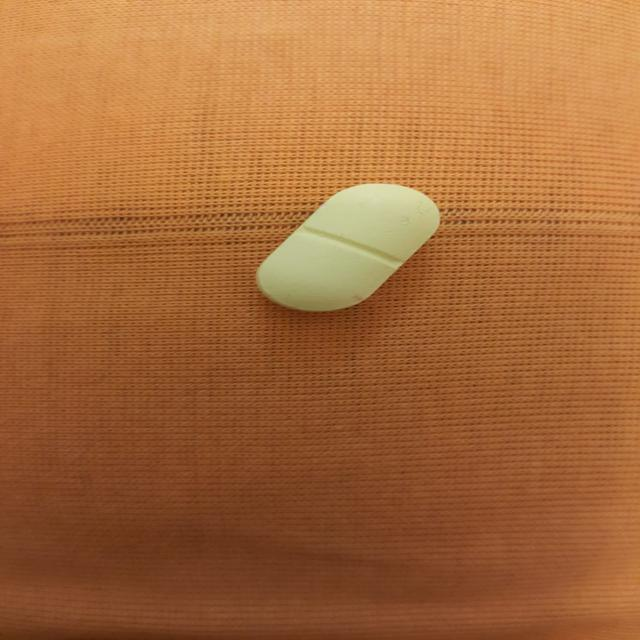pills: (225, 165, 470, 321)
